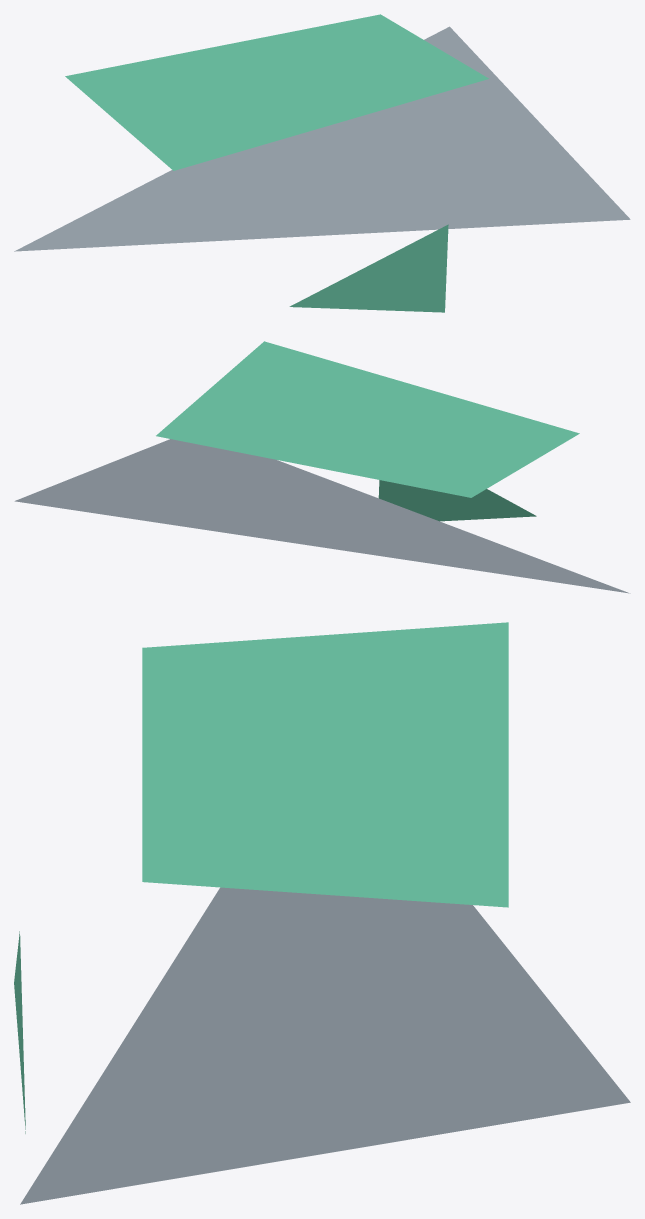
The model's file is CO_SeimonShieldCarrier_LOD2.glb.
3 renders of one model, top to bottom at view 1: azimuth 30°, elevation 25°; view 2: azimuth 150°, elevation 25°; view 3: azimuth 270°, elevation 25°, orthographic. The views are drawn at different scales.
Visible parts, largest first — view 1: EntranceGate; view 2: EntranceGate; view 3: EntranceGate.
Boxes of the visible parts, left/top/right/bottom form: EntranceGate: left=14, top=14, right=630, bottom=312; EntranceGate: left=14, top=341, right=630, bottom=593; EntranceGate: left=14, top=622, right=630, bottom=1204.
Size of the model in its own units: 570 by 196 by 343.
